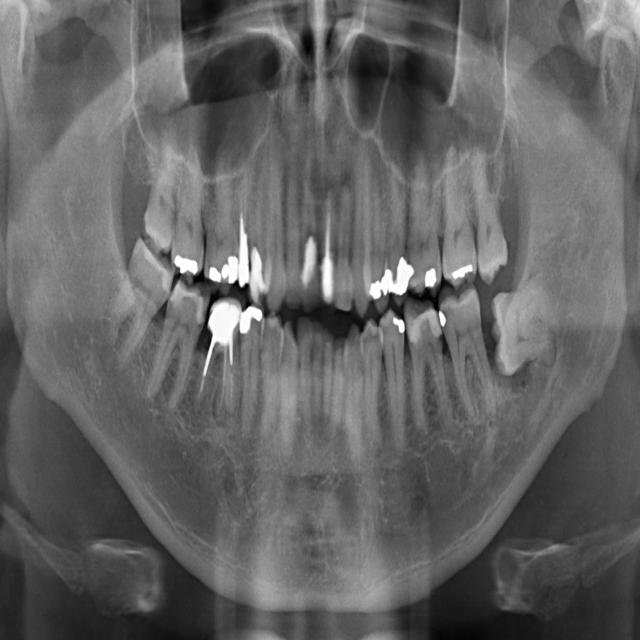AmalgamRestoration: (370, 256, 416, 300), (206, 253, 238, 284), (175, 248, 199, 276), (452, 262, 475, 282), (422, 263, 435, 288), (394, 314, 406, 332), (433, 314, 447, 328)
CompositeResinRestoration: (168, 280, 207, 315), (405, 305, 438, 345), (139, 250, 170, 278), (248, 245, 264, 294), (302, 237, 317, 284)
Crown: (210, 301, 244, 339), (322, 267, 335, 302)
DentalCaries: (430, 331, 442, 365), (444, 310, 457, 335), (201, 332, 211, 354), (196, 321, 205, 339)
ImpactedTooth: (489, 281, 542, 385)
RootCanalTreatment: (194, 376, 234, 416), (322, 189, 338, 220), (236, 196, 247, 224)
periapicalLesion: (210, 393, 230, 433), (340, 165, 361, 197)
post: (322, 215, 335, 262), (235, 224, 248, 270), (201, 342, 215, 382), (223, 339, 236, 368)
